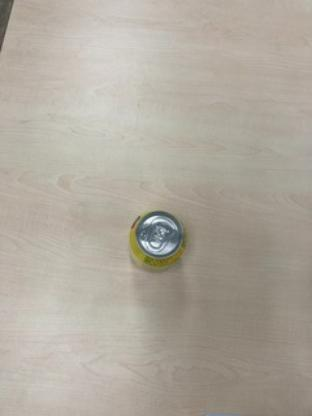Can: (126, 206, 188, 276)
